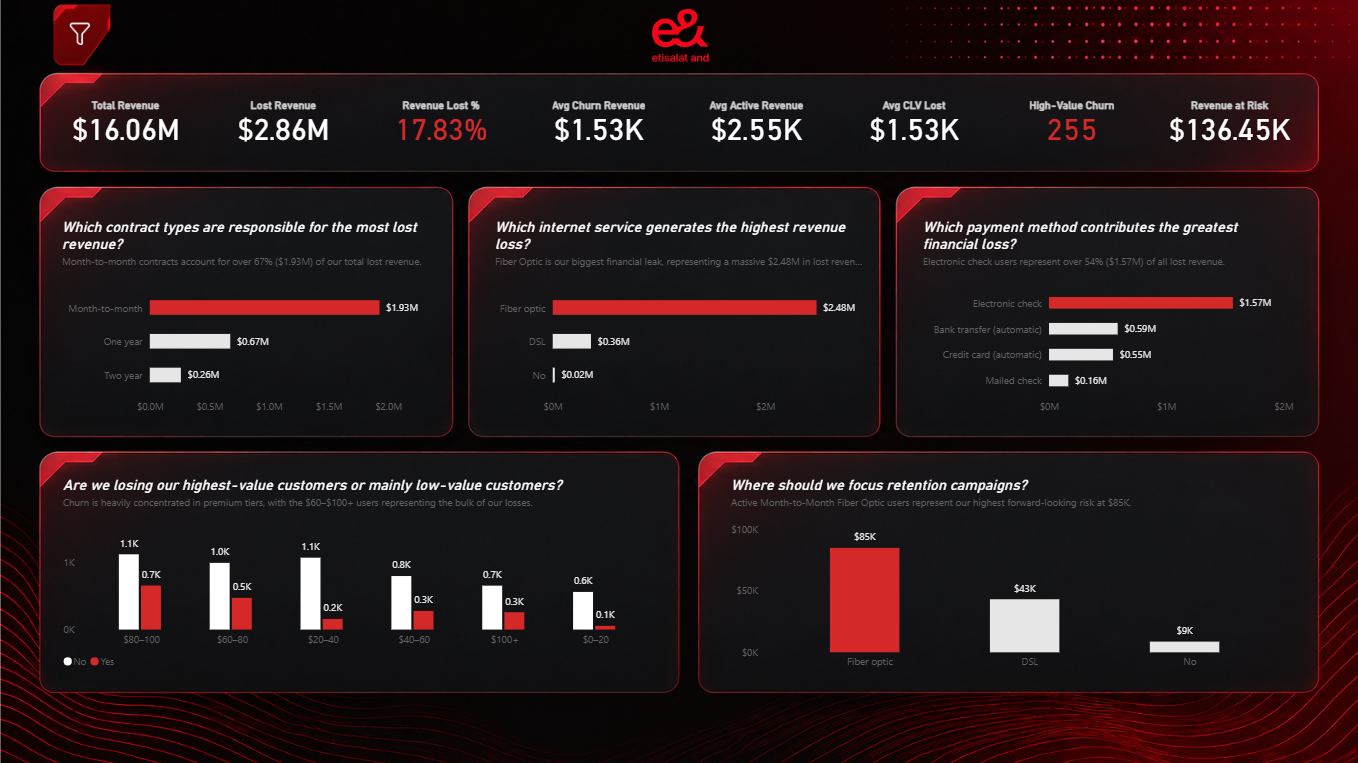

The page's visual inventory and layout, read from the dashboard file:
{"tool":"powerbi","page":{"name":"Revenue Impact & Risk Mitigation","canvas":[1920,1080],"ordinal":1},"visuals":[{"type":"cardVisual","fields":{"Data":["_Measures.Total Revenue","_Measures.Total Churn Revenue","_Measures.Revenue Lost %","_Measures.Avg Revenue Per Churn Customer","_Measures.Avg Revenue Per Active Customer","_Measures.Avg CLV Lost","_Measures.High Value Customers Churned","_Measures.Revenue at Risk (Active M2M)"]},"box":[184.3,168.6,1545.7,102.9],"z":0},{"type":"image","box":[914.3,68.6,91.4,85.7],"z":1000},{"type":"barChart","title":"Which contract types are responsible for the most lost revenue?","fields":{"Category":["Dim_Contract.Contract"],"Y":["_Measures.Total Churn Revenue"]},"box":[183.8,323.8,487.5,275],"z":2000},{"type":"barChart","title":"Which internet service generates the highest revenue loss?","fields":{"Category":["Dim_Service.Internet_Service"],"Y":["_Measures.Total Churn Revenue"]},"box":[716.2,323.8,487.5,275],"z":3000},{"type":"barChart","title":"Which payment method contributes the greatest financial loss?","fields":{"Category":["Dim_Contract.Payment_Method"],"Y":["_Measures.Total Churn Revenue"]},"box":[1242.5,323.8,487.5,275],"z":4000},{"type":"clusteredColumnChart","title":"Are we losing our highest-value customers or mainly low-value customers?","fields":{"Category":["Fact_Billing_Churn.Monthly Charge Band"],"Series":["Fact_Billing_Churn.Churn"],"Y":["_Measures.Total Customers"]},"box":[184.3,641.4,760,271.4],"z":5000},{"type":"columnChart","title":"Where should we focus retention campaigns?","fields":{"Category":["Dim_Service.Internet_Service"],"Y":["_Measures.Revenue at Risk (Active M2M)"]},"box":[1005.7,641.4,724.3,271.4],"z":6000},{"type":"image","box":[183.5,70.5,89.1,83.8],"z":7000}]}

Visuals, with their boxes in screenshot pixels (x1, y1, x2, y2), scaled from the page's 1920x1080 canvas onto the 1358x763 screenshot:
cardVisual - _Measures.Total Revenue x _Measures.Total Churn Revenue: bbox(130, 119, 1224, 192)
image: bbox(647, 48, 711, 109)
"Which contract types are responsible for the most lost revenue?" barChart: bbox(130, 229, 475, 423)
"Which internet service generates the highest revenue loss?" barChart: bbox(507, 229, 851, 423)
"Which payment method contributes the greatest financial loss?" barChart: bbox(879, 229, 1224, 423)
"Are we losing our highest-value customers or mainly low-value customers?" clusteredColumnChart: bbox(130, 453, 668, 645)
"Where should we focus retention campaigns?" columnChart: bbox(711, 453, 1224, 645)
image: bbox(130, 50, 193, 109)
